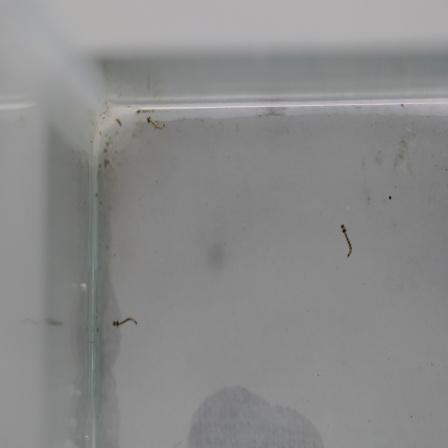Jentik-Nyamuk: (337, 219, 356, 262), (141, 111, 169, 135), (109, 313, 139, 331)
